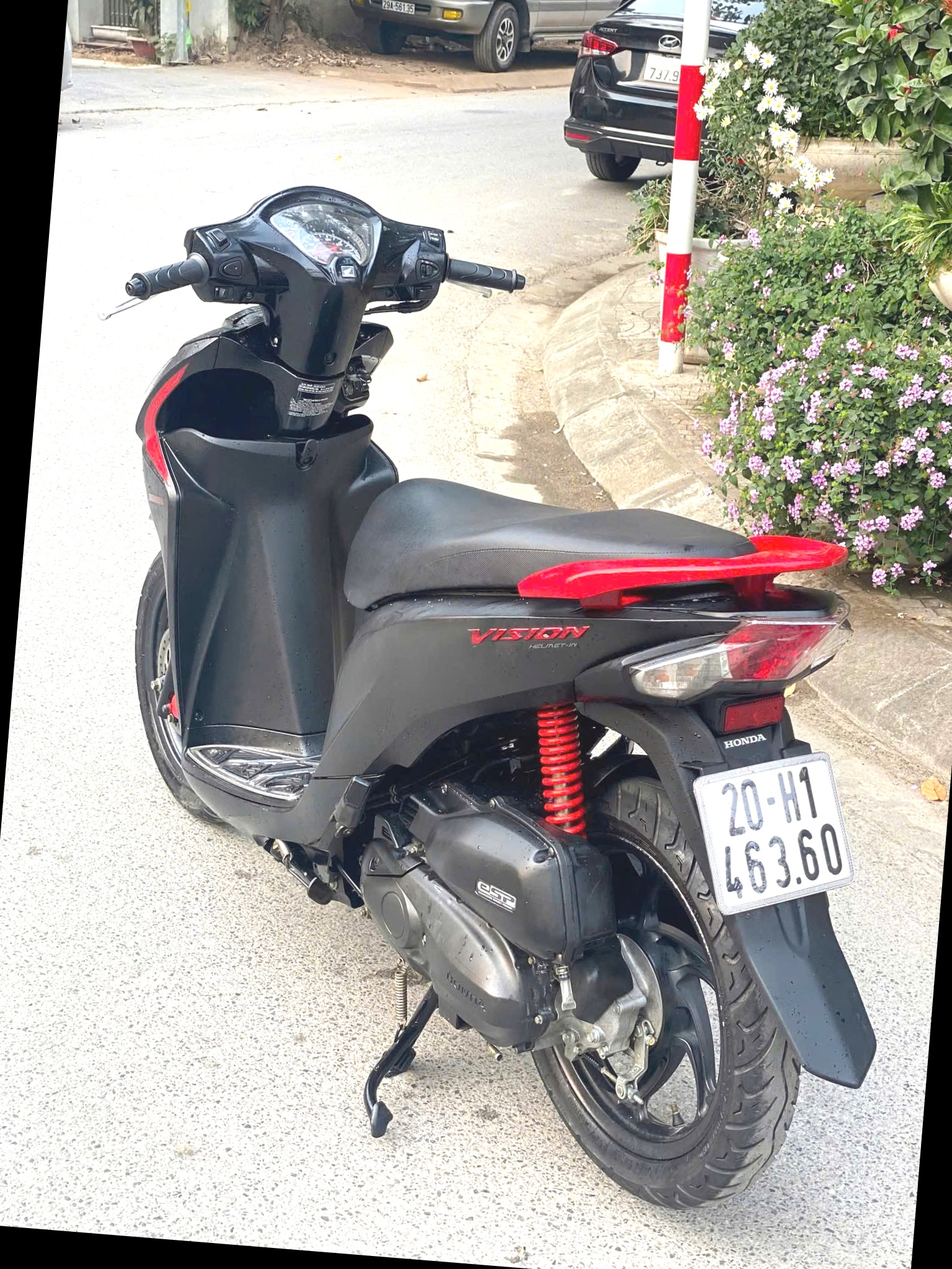Bien-so: (675, 737, 870, 933), (637, 56, 683, 90)
